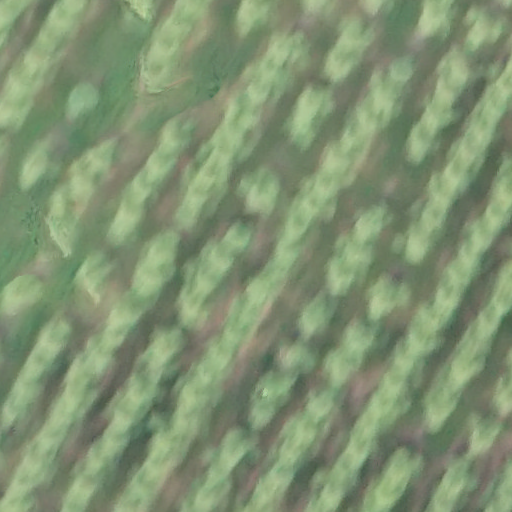eucalipto: (459, 3, 506, 52), (365, 277, 409, 326), (239, 168, 280, 217), (264, 33, 314, 72), (411, 1, 453, 47), (1, 271, 48, 312), (353, 89, 392, 138), (181, 375, 225, 416), (352, 198, 393, 241), (291, 299, 333, 340), (335, 235, 379, 274), (245, 66, 294, 101), (366, 69, 401, 118), (221, 97, 264, 136), (220, 430, 259, 472), (401, 126, 437, 169), (125, 373, 169, 408), (407, 319, 446, 358), (73, 257, 113, 295), (148, 324, 189, 361), (63, 78, 100, 118), (384, 446, 424, 483), (283, 416, 324, 452), (465, 410, 497, 456), (231, 1, 275, 34), (439, 459, 481, 492), (433, 54, 472, 89), (256, 368, 292, 404), (198, 242, 234, 278), (103, 298, 142, 331), (44, 2, 81, 36), (316, 142, 350, 179), (207, 341, 241, 378), (465, 100, 499, 136), (6, 63, 43, 96), (279, 346, 319, 376), (32, 25, 68, 58), (324, 352, 360, 385), (213, 314, 247, 348), (191, 355, 225, 389), (425, 171, 459, 205), (415, 201, 448, 236), (146, 232, 178, 268), (341, 322, 377, 354), (74, 358, 115, 386), (160, 125, 194, 158), (37, 318, 71, 351), (324, 49, 358, 82), (189, 264, 222, 298), (303, 387, 337, 420), (319, 260, 350, 296), (146, 431, 179, 463), (429, 285, 461, 318), (488, 375, 512, 419), (243, 400, 277, 431), (242, 276, 274, 308), (105, 216, 139, 246), (380, 366, 410, 400), (282, 208, 311, 243), (473, 305, 501, 341), (386, 52, 416, 85), (146, 153, 180, 182), (403, 230, 431, 265), (392, 340, 419, 374), (95, 323, 126, 352), (275, 440, 304, 471), (134, 174, 163, 204), (222, 224, 252, 253), (460, 126, 489, 156), (467, 223, 497, 252), (175, 202, 203, 233), (479, 87, 507, 118), (443, 264, 471, 295), (456, 244, 482, 277), (274, 240, 302, 269), (339, 126, 365, 156), (428, 85, 460, 109), (492, 174, 512, 212), (483, 202, 508, 232), (328, 461, 360, 483), (495, 268, 512, 309), (352, 410, 377, 437), (343, 434, 371, 458), (369, 390, 392, 416), (58, 1, 89, 16), (499, 67, 512, 102), (186, 296, 206, 318)
